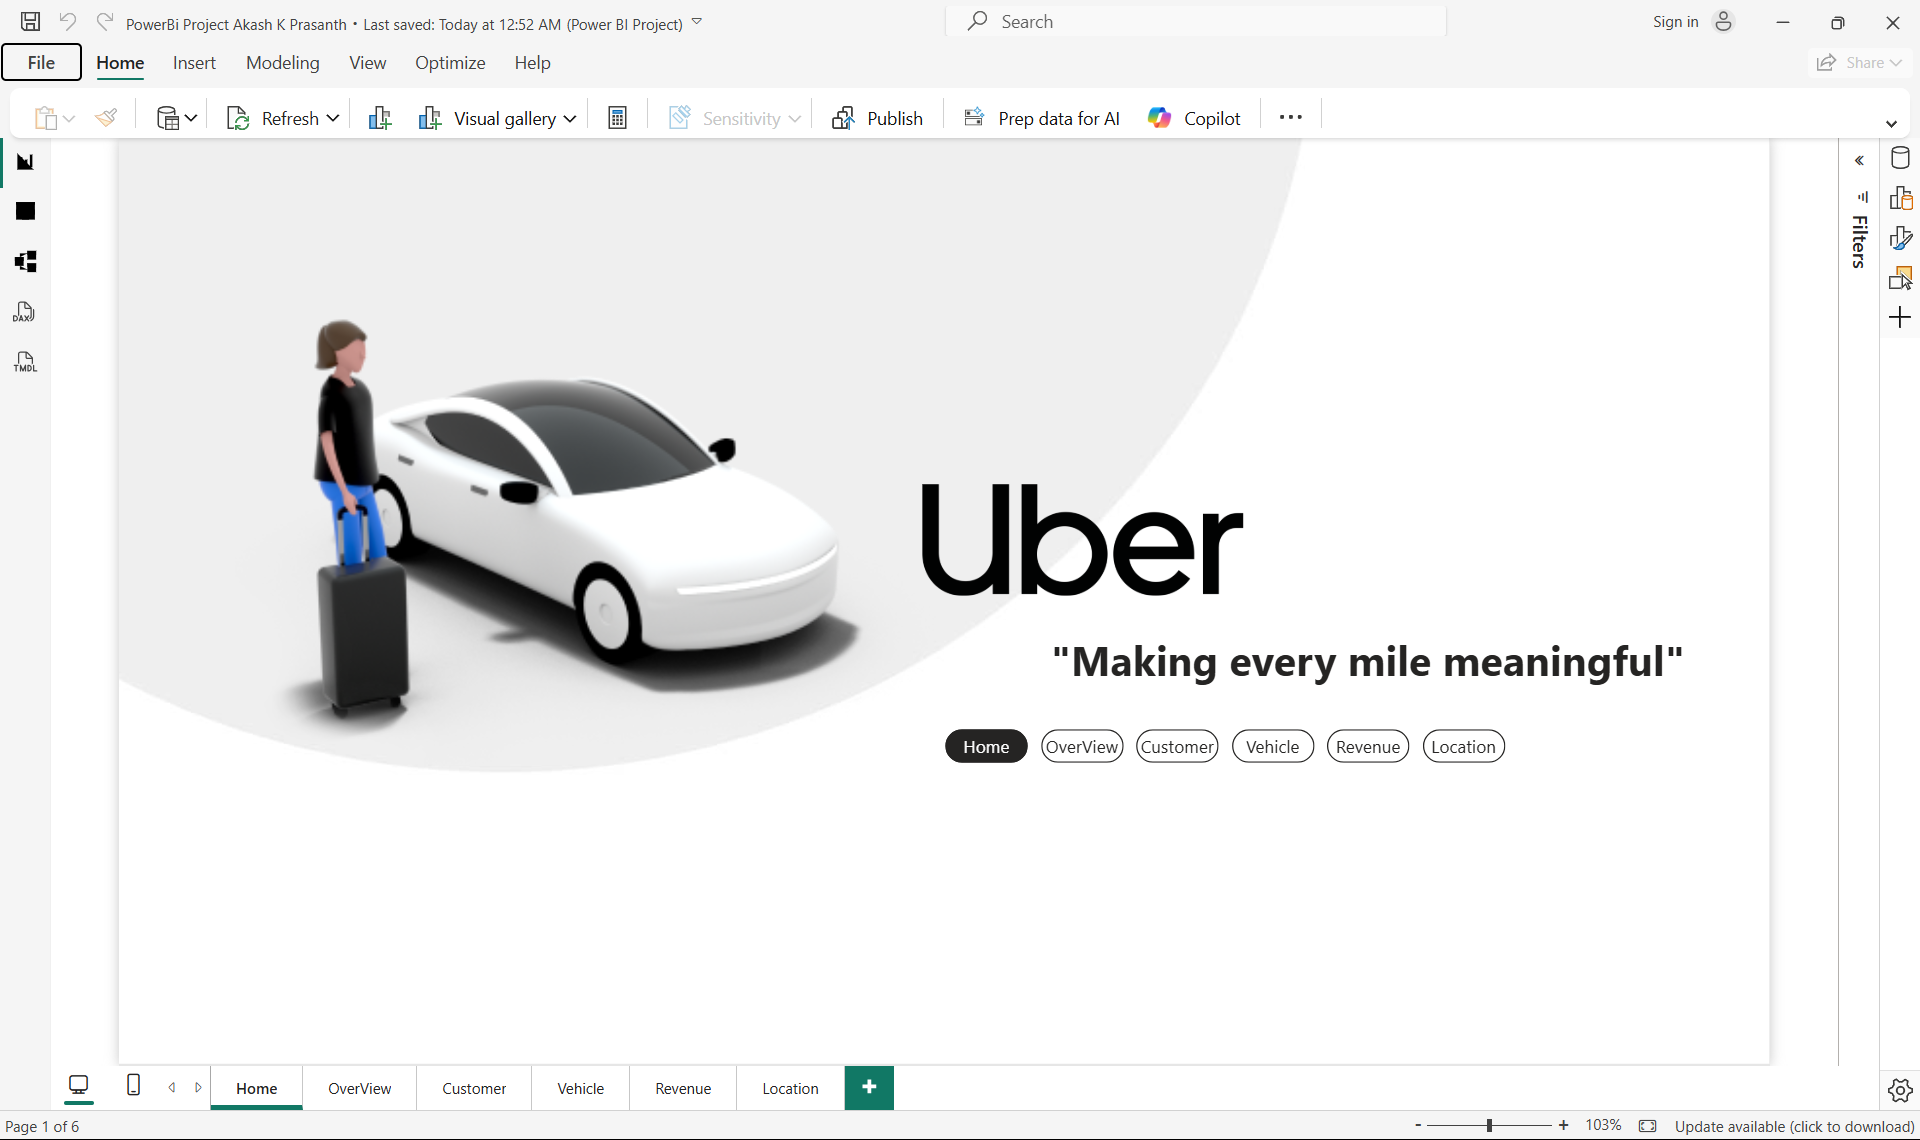

The page's visual inventory and layout, read from the dashboard file:
{"tool":"powerbi","page":{"name":"Home","canvas":[1280,720],"ordinal":0},"visuals":[{"type":"textbox","box":[709.8,360.7,518,89.5],"z":0},{"type":"image","box":[83.7,0,556.9,554],"z":1000},{"type":"image","box":[525.3,264,444,96],"z":2000},{"type":"pageNavigator","box":[640.5,458.9,436.8,27],"z":3000}]}

Visuals, with their boxes on the page's 1280x720 design canvas (x1, y1, x2, y2). These are canvas units, not pixel positions in the 1920x1140 screenshot, which may show the page scaled, cropped or inside an application window:
textbox: bbox=(710, 361, 1228, 450)
image: bbox=(84, 0, 641, 554)
image: bbox=(525, 264, 969, 360)
pageNavigator: bbox=(640, 459, 1077, 486)
